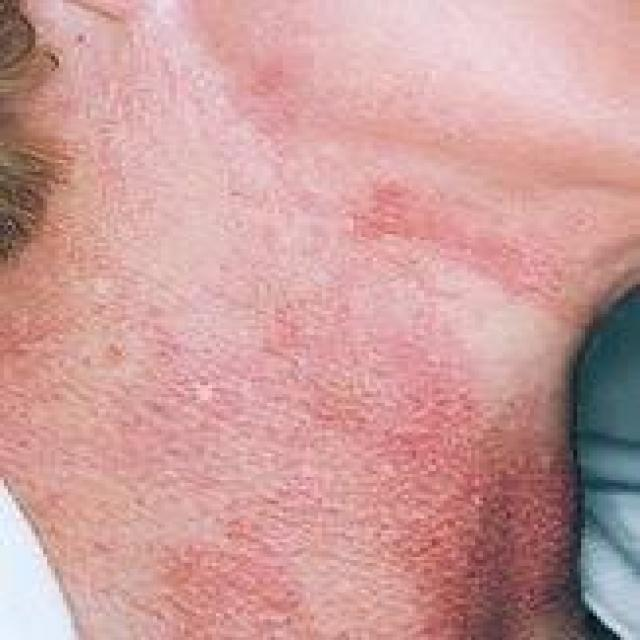Rosacea: (272, 176, 582, 628), (102, 324, 302, 634)
